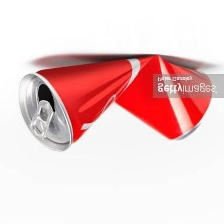can: (15, 50, 217, 154)
